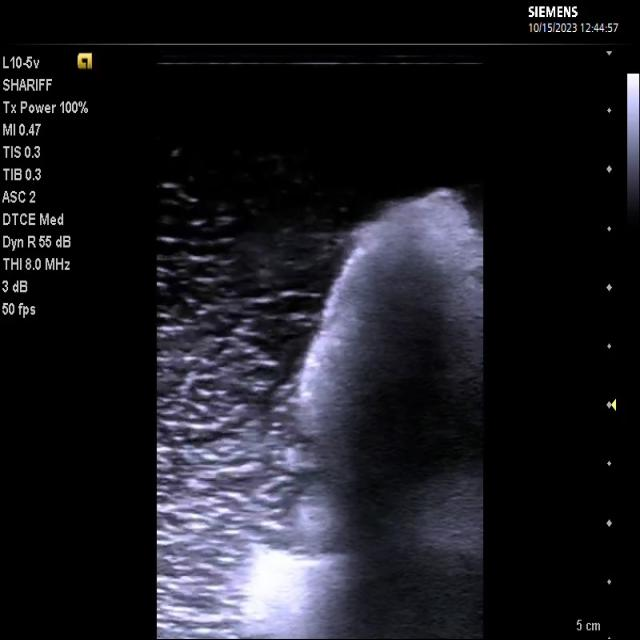tissue: (250, 186, 485, 636)
